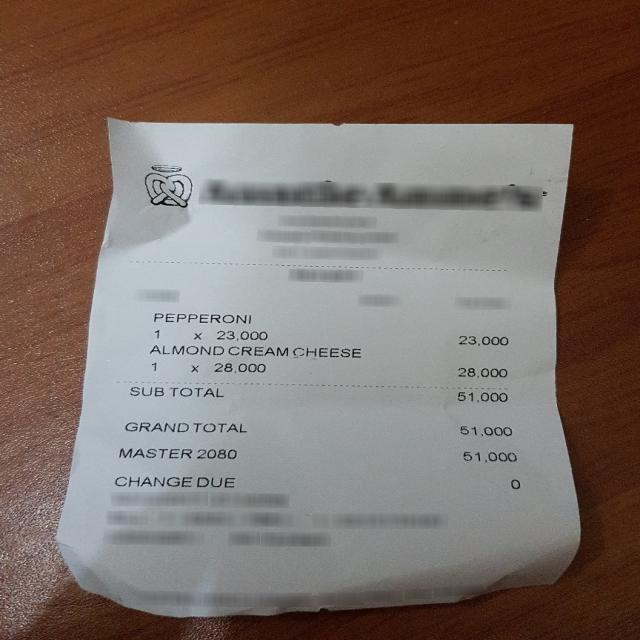kertas: (57, 118, 584, 622)
